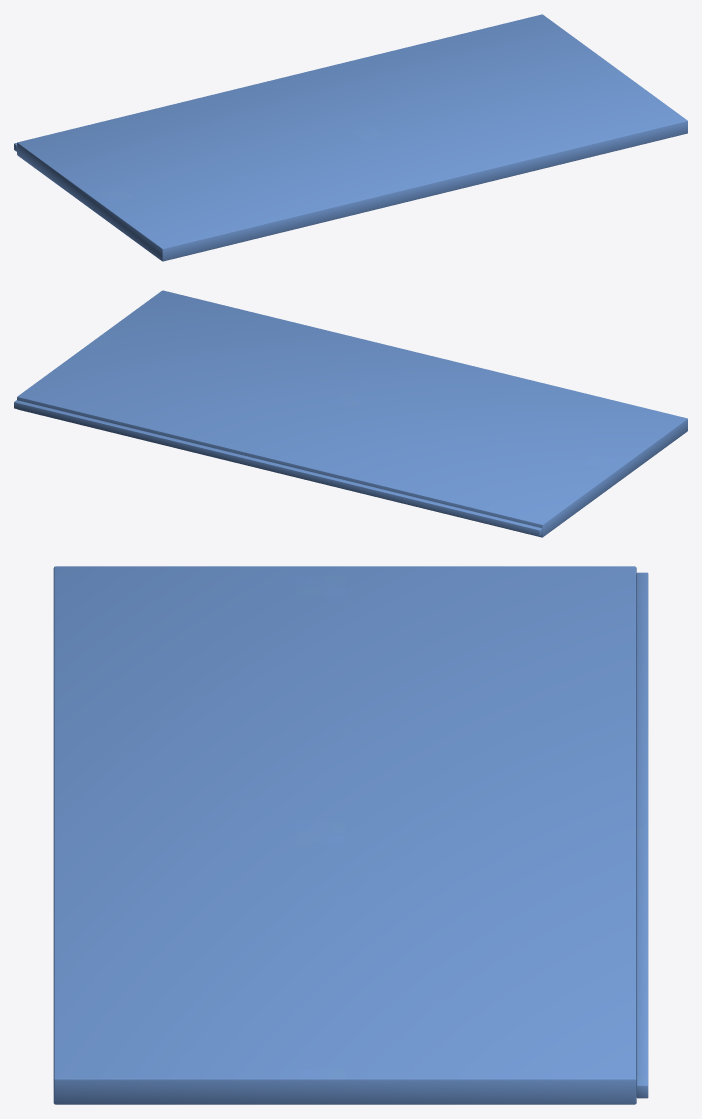
The model's file is IMP-ISO-004_lod1.glb.
The picture shows the model from 3 angles, top to bottom: view 1: azimuth 30°, elevation 25°; view 2: azimuth 150°, elevation 25°; view 3: azimuth 270°, elevation 25°; orthographic projection. The views are drawn at different scales.
Visible parts, largest first — view 1: IMP-ISO-004_placa; view 2: IMP-ISO-004_placa, IMP-ISO-004_macho; view 3: IMP-ISO-004_placa, IMP-ISO-004_macho.
Part boxes in pixels (x1,y1,x2,y2): IMP-ISO-004_placa: (17, 14, 687, 261); IMP-ISO-004_placa: (17, 290, 687, 537); IMP-ISO-004_macho: (14, 400, 542, 536); IMP-ISO-004_placa: (53, 566, 636, 1104); IMP-ISO-004_macho: (636, 572, 648, 1098).
Size of the model in its own units: 1.25 by 0.03 by 0.612.
1 material, 1 textured.
